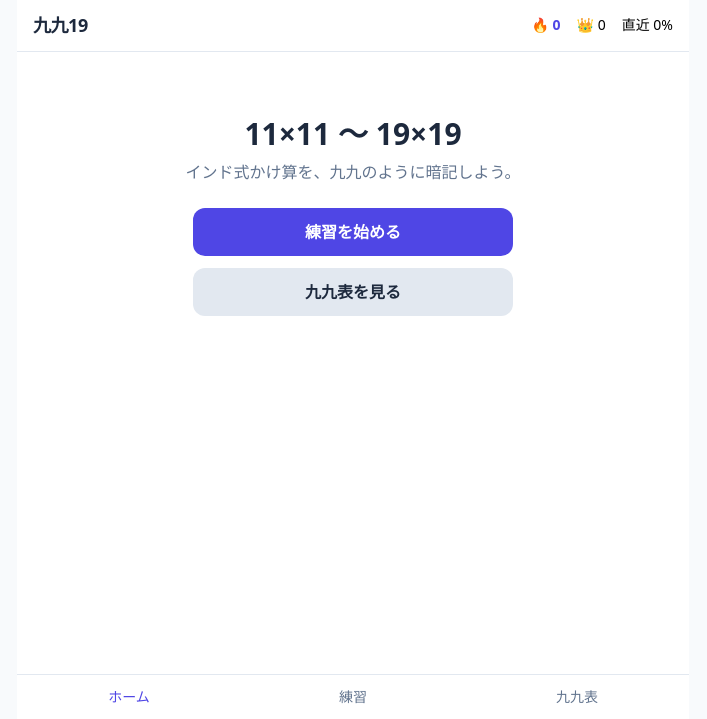
Test: App (統合) › NavBar の各ボタンで画面が切り替わる
The width and height of the screenshot is (707, 719).
Click the button "練習" at (353,697), box [241, 675, 465, 718]
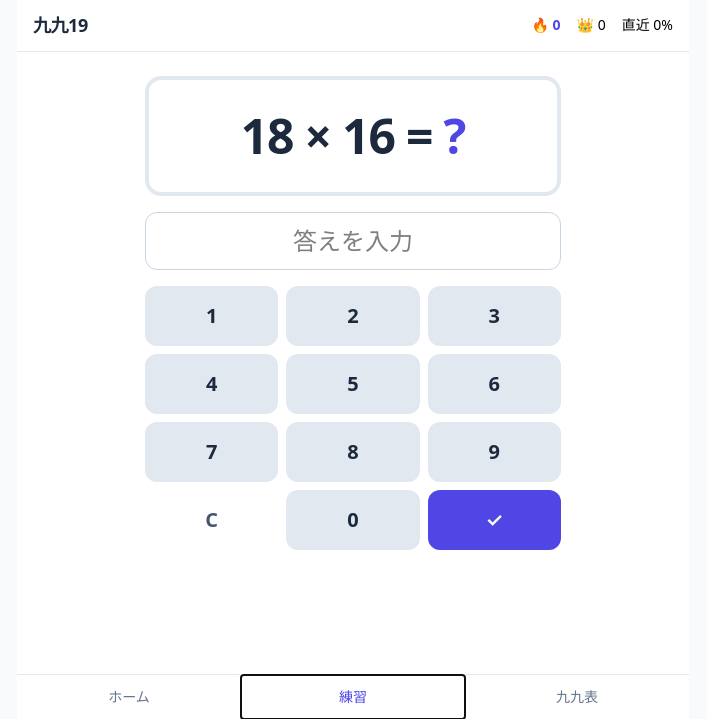
Result: the field named "答えの入力欄" is shown at [145, 212, 561, 270]
Click the button "九九表" at (577,697), box [465, 675, 689, 718]
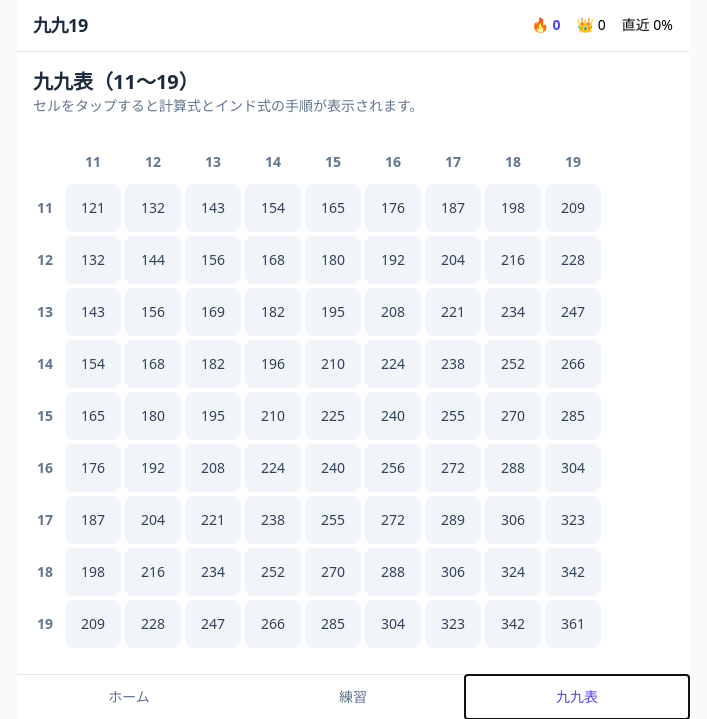
Result: the heading "九九表（11〜19）" is shown at [33, 68, 199, 95]
Click the button "ホーム" at (129,697), box [17, 675, 241, 718]
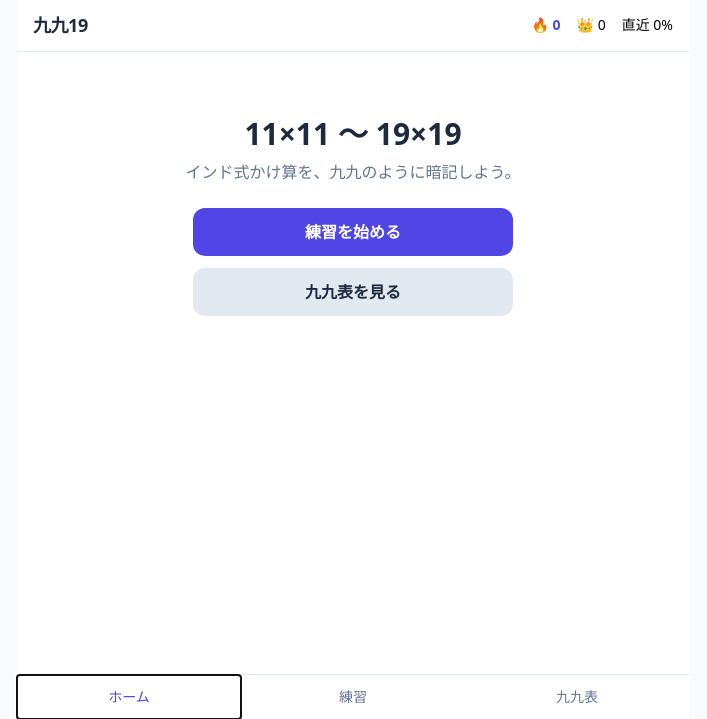
Result: the heading "11×11 〜 19×19" is shown at [244, 113, 462, 154]
